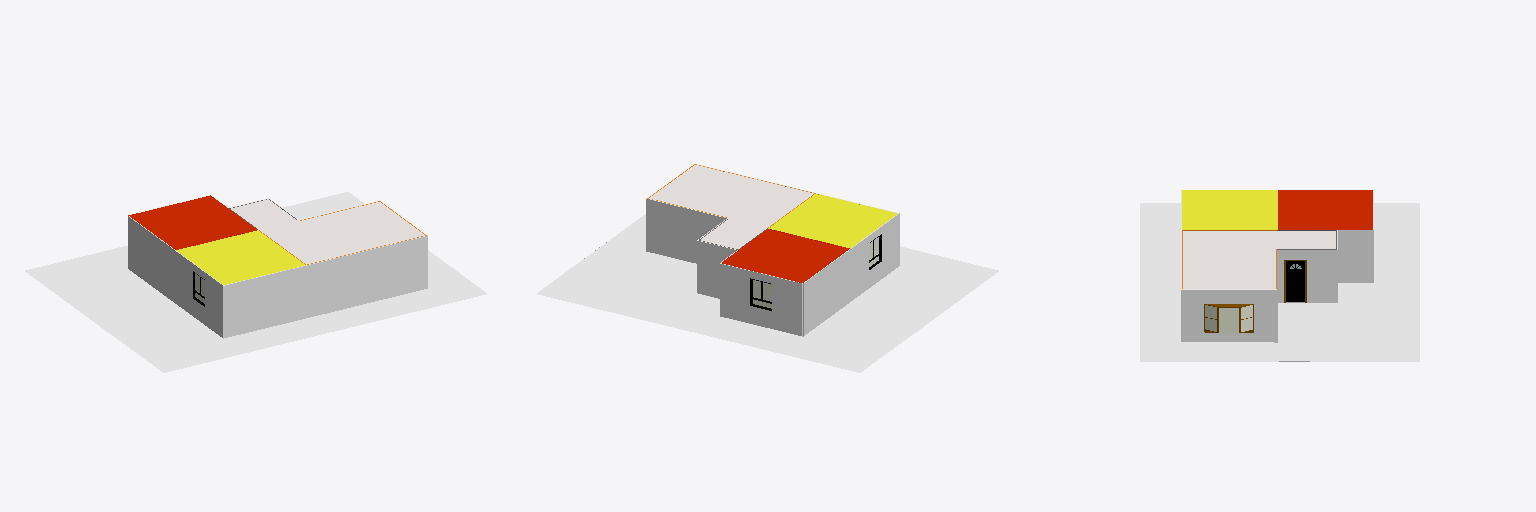
Rendered from house2walls.obj.
3 renders of one model, left to right at view 1: azimuth 30°, elevation 25°; view 2: azimuth 150°, elevation 25°; view 3: azimuth 270°, elevation 25°, orthographic.
Visible parts, largest first — view 1: room_19_98, room_18_97, wall_7_41, wall_5_29, room_24_103, room_17_95, room_16_93, wall_2_11, wall_4_23, room_23_102, room_20_99; view 2: room_19_98, room_18_97, room_20_99, wall_1_4, room_17_95, room_16_93, room_22_101, wall_8_46, room_21_100, wall_2_11, wall_4_23, wall_9_52 (+1 smaller); view 3: room_18_97, room_20_99, room_24_103, room_22_101, room_17_95, room_16_93, wall_12_71, room_19_98, room_21_100, room_23_102, wall_14_83, wall_11_65 (+1 smaller).
Boxes of the visible parts, x1=… form: room_19_98: x1=25, y1=251, x2=243, y2=372; room_18_97: x1=231, y1=199, x2=424, y2=264; wall_7_41: x1=307, y1=236, x2=427, y2=317; wall_5_29: x1=223, y1=266, x2=306, y2=338; room_24_103: x1=224, y1=289, x2=448, y2=352; room_17_95: x1=177, y1=231, x2=303, y2=284; room_16_93: x1=130, y1=196, x2=255, y2=249; wall_2_11: x1=128, y1=216, x2=175, y2=303; wall_4_23: x1=176, y1=252, x2=222, y2=337; room_23_102: x1=428, y1=250, x2=486, y2=302; room_20_99: x1=104, y1=192, x2=363, y2=267; room_19_98: x1=780, y1=251, x2=998, y2=372; room_18_97: x1=649, y1=165, x2=813, y2=248; room_20_99: x1=537, y1=279, x2=801, y2=352; wall_1_4: x1=720, y1=264, x2=802, y2=336; room_17_95: x1=770, y1=194, x2=895, y2=247; room_16_93: x1=723, y1=229, x2=847, y2=282; room_22_101: x1=574, y1=243, x2=696, y2=295; wall_8_46: x1=648, y1=199, x2=726, y2=263; room_21_100: x1=557, y1=267, x2=719, y2=317; wall_2_11: x1=803, y1=249, x2=851, y2=335; wall_4_23: x1=852, y1=213, x2=899, y2=300; wall_9_52: x1=699, y1=241, x2=736, y2=298; room_18_97: x1=1183, y1=231, x2=1335, y2=288; room_20_99: x1=1374, y1=242, x2=1419, y2=361; room_24_103: x1=1140, y1=242, x2=1180, y2=342; room_22_101: x1=1278, y1=303, x2=1343, y2=361; room_17_95: x1=1183, y1=190, x2=1276, y2=229; room_16_93: x1=1279, y1=190, x2=1371, y2=229; wall_12_71: x1=1181, y1=290, x2=1277, y2=342; room_19_98: x1=1140, y1=203, x2=1419, y2=241; room_21_100: x1=1338, y1=283, x2=1377, y2=361; room_23_102: x1=1140, y1=342, x2=1278, y2=361; wall_14_83: x1=1277, y1=250, x2=1336, y2=302; wall_11_65: x1=1338, y1=230, x2=1372, y2=282.
Bounding box in the file's own units: 1606 × 250 × 1200.